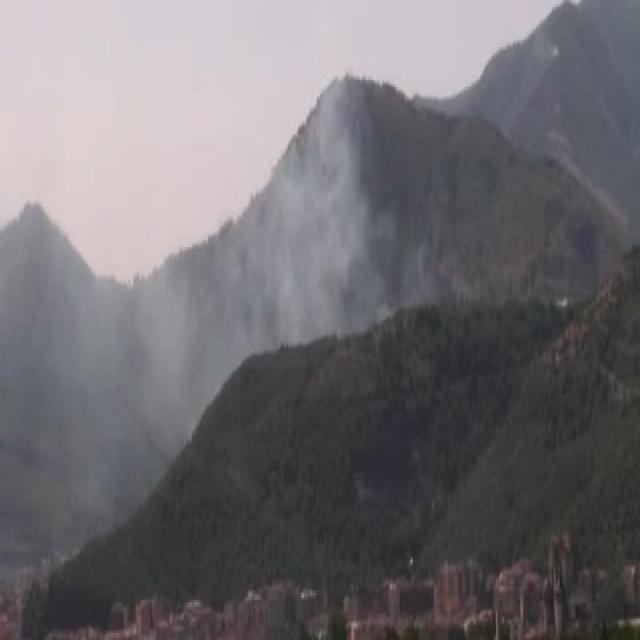smoke: (240, 138, 369, 342), (26, 312, 200, 458)
